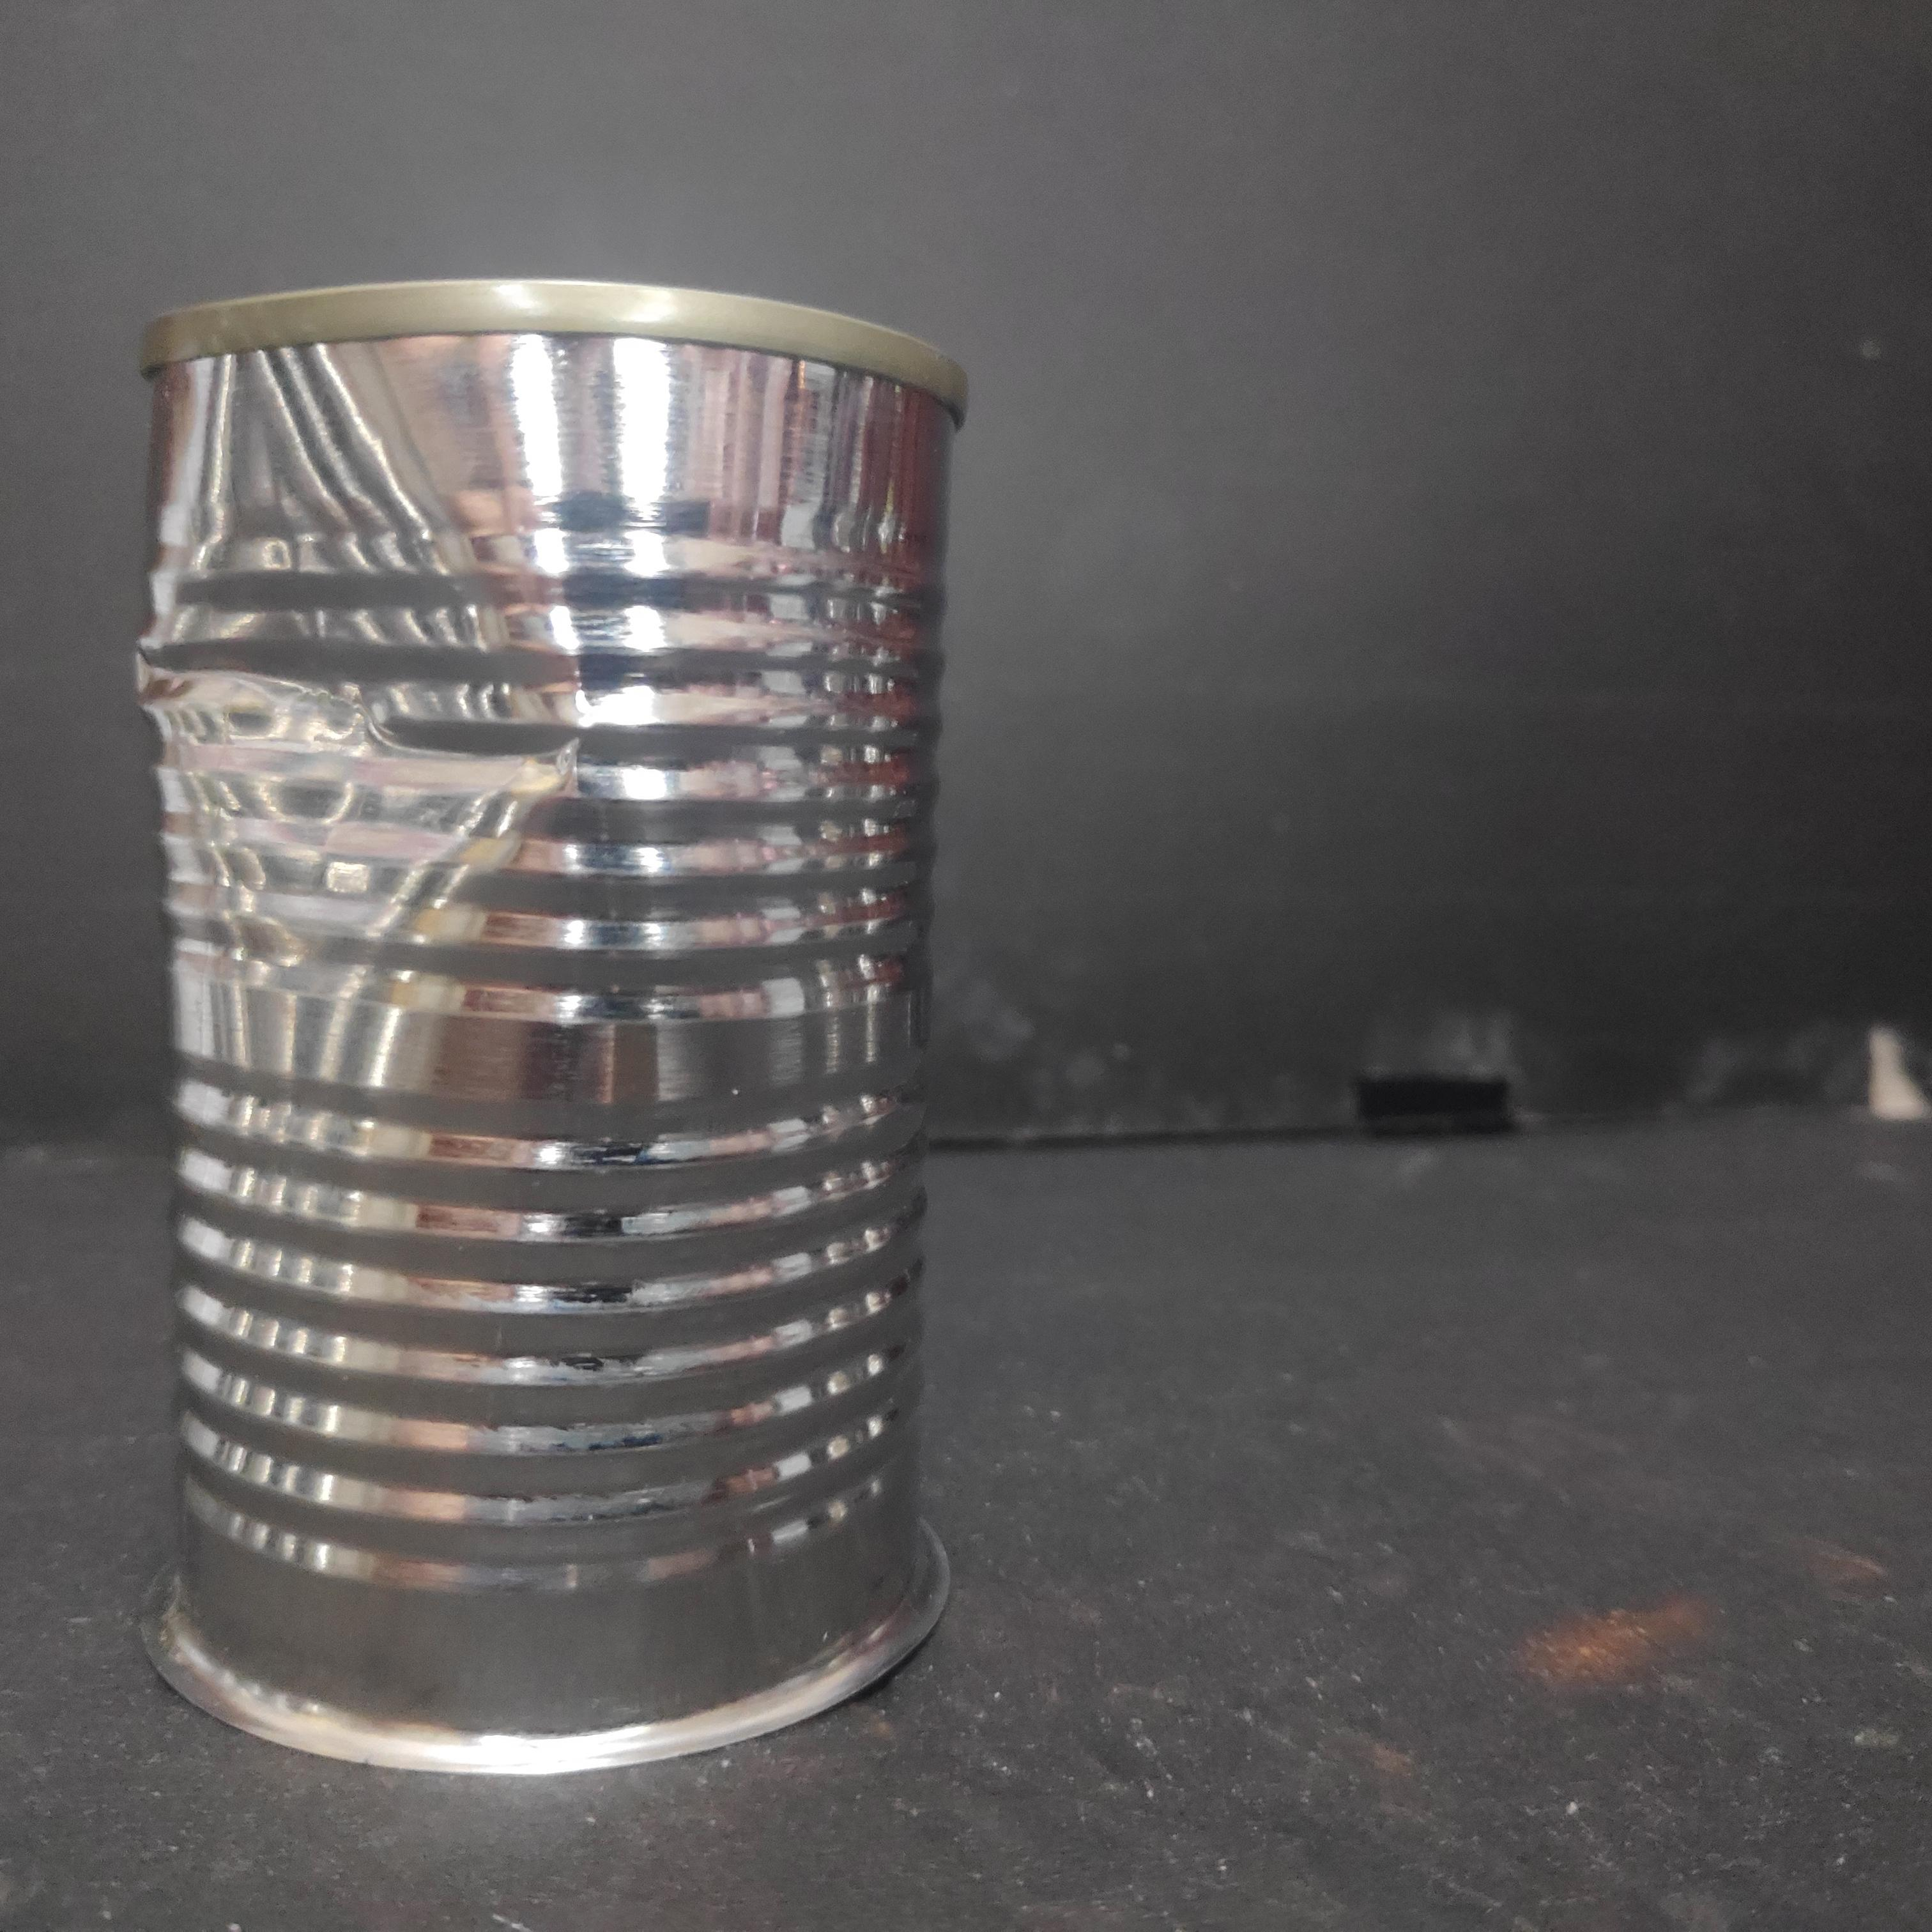Minor Defect: (117, 260, 980, 1790)
